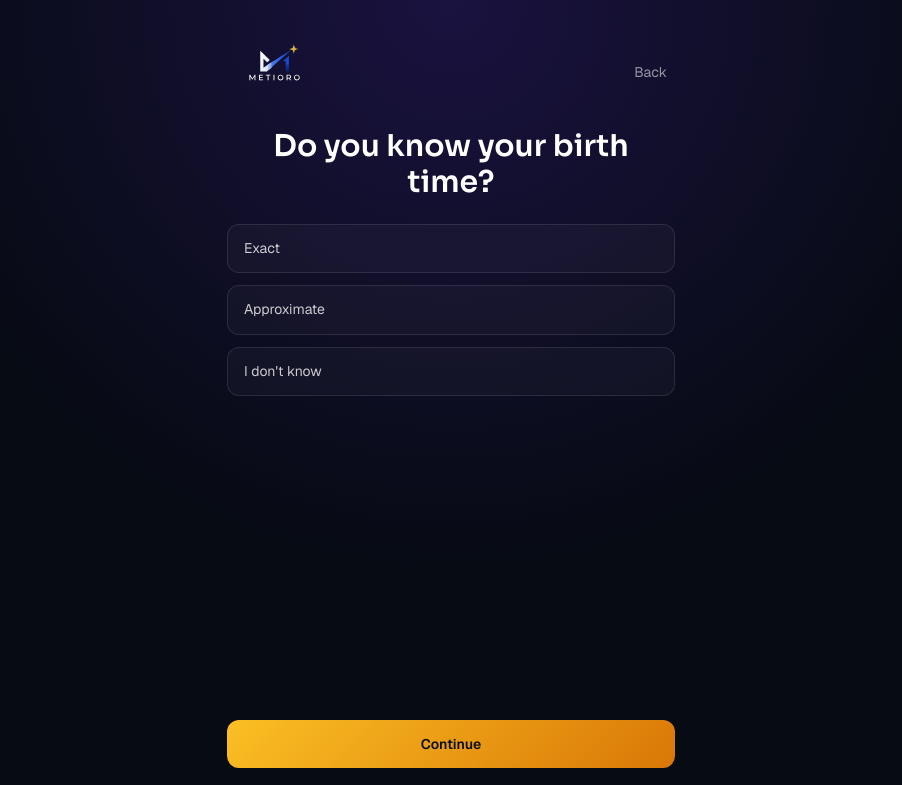
Test: BirthTimeScreen › shows an error when Exact is chosen without a time
Click the radio button labelled "Exact". click: (262, 248)
box: [227,224,675,273]
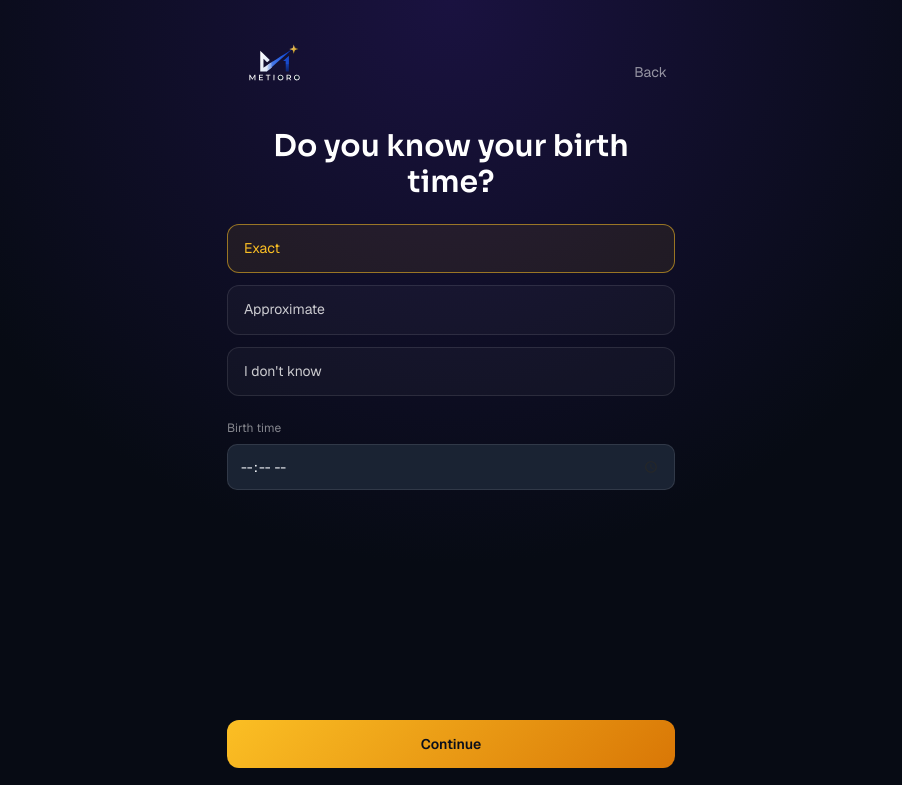
Click the button "Continue". click: (451, 744)
box: [227,720,675,768]
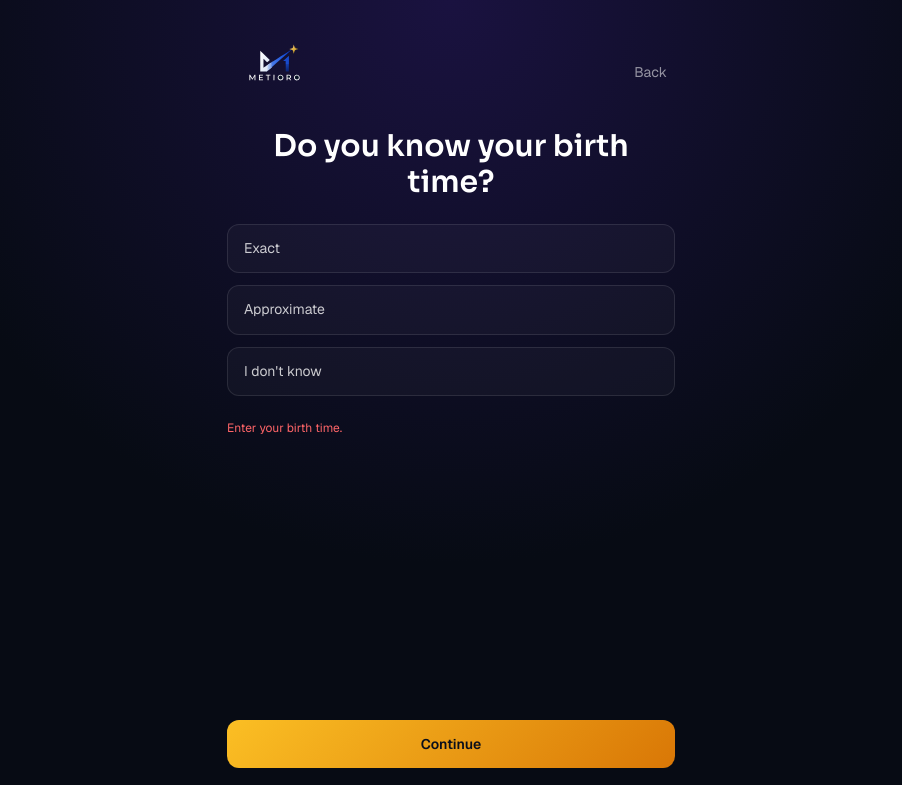
Now the message reads "Enter your birth time.", box [227,420,342,436]
